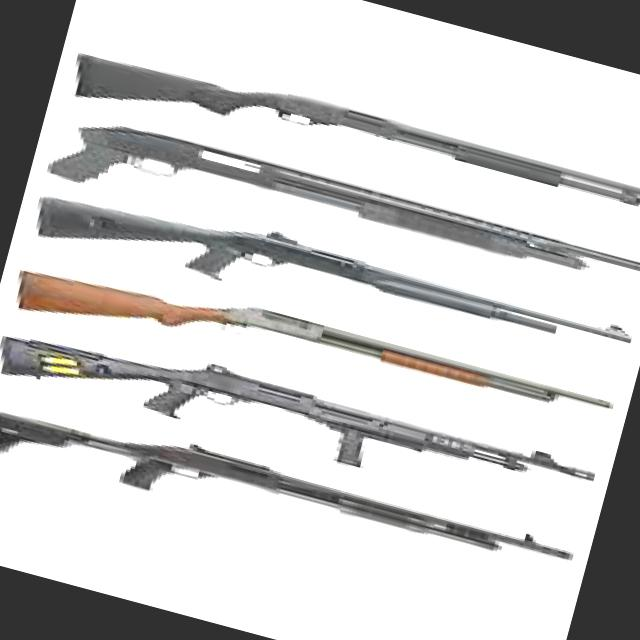long weapon: (0, 398, 579, 598), (53, 33, 640, 227), (46, 107, 640, 298), (1, 262, 614, 444), (0, 327, 586, 516), (27, 184, 629, 366)
